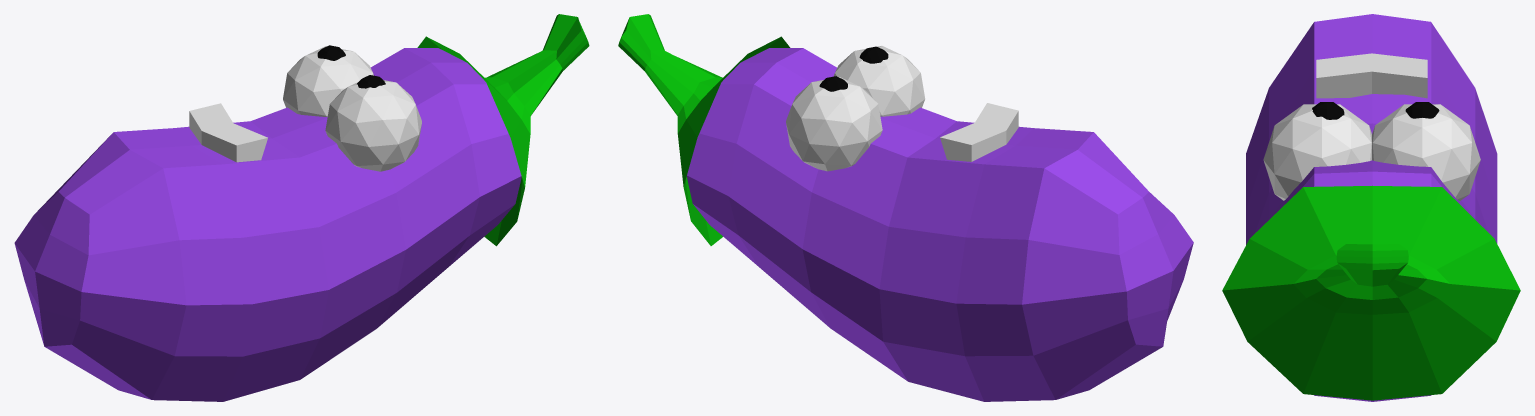
The model's file is baklan.fbx.
3 views of the same model, side by side, from view 1: azimuth 30°, elevation 25°; view 2: azimuth 150°, elevation 25°; view 3: azimuth 270°, elevation 25° (orthographic). The views are drawn at different scales.
Visible parts, largest first — view 1: Cube, Icosphere.001, Icosphere, Cube.001; view 2: Cube, Icosphere, Icosphere.001, Cube.001; view 3: Cube, Icosphere, Icosphere.001, Cube.001, Icosphere.003, Icosphere.002.
Part boxes in pixels (x1,y1,x2,y2): Cube: (14, 14, 589, 401); Icosphere.001: (325, 80, 421, 171); Icosphere: (283, 46, 373, 116); Cube.001: (189, 103, 267, 162); Cube: (618, 14, 1193, 401); Icosphere: (786, 77, 882, 171); Icosphere.001: (833, 46, 925, 116); Cube.001: (940, 103, 1018, 161); Cube: (1222, 14, 1520, 401); Icosphere: (1372, 104, 1480, 200); Icosphere.001: (1263, 104, 1371, 200); Cube.001: (1316, 53, 1427, 98); Icosphere.003: (1312, 102, 1344, 119); Icosphere.002: (1405, 102, 1439, 118).
Size of the model in its own units: 1280 by 648 by 511.
